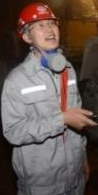gloves: (62, 105, 98, 130)
hard-hat: (17, 0, 59, 37)
vest: (0, 46, 89, 194)
